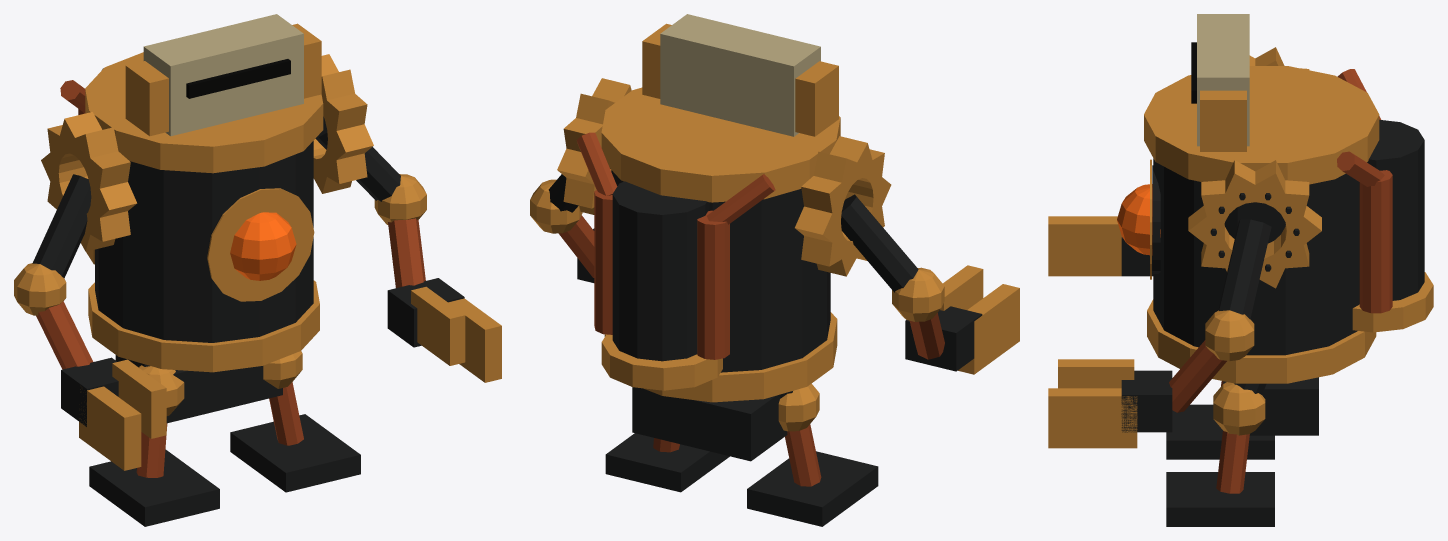
Rendered from ENEMY_ScrapperAutomaton_Blockout_LOD0.obj.
The picture shows the model from 3 angles, left to right: view 1: azimuth 30°, elevation 25°; view 2: azimuth 150°, elevation 25°; view 3: azimuth 270°, elevation 25°; orthographic projection. The views are drawn at different scales.
Visible parts, largest first — view 1: boiler_torso, head_mask_plate, upper_boiler_band, left_cog_shoulder, lower_boiler_band, right_leg_broad_foot, chest_core_brass_lip, left_leg_broad_foot, right_cog_shoulder, pelvis_block, left_outer_claw, chest_core_amber_glass (+19 smaller); view 2: upper_boiler_band, boiler_torso, backpack_pressure_tank, head_mask_plate, left_cog_shoulder, pelvis_block, left_leg_broad_foot, lower_boiler_band, backpack_left_pipe, right_leg_broad_foot, right_cog_shoulder, backpack_mount_collar (+15 smaller); view 3: boiler_torso, upper_boiler_band, right_cog_shoulder, backpack_pressure_tank, lower_boiler_band, right_leg_broad_foot, right_outer_claw, backpack_right_pipe, head_mask_plate, left_inner_claw, left_leg_broad_foot, right_upper_claw_arm (+14 smaller).
Part boxes in pixels (x1,y1,x2,y2): boiler_torso: (95,141,313,342); head_mask_plate: (143,14,303,136); upper_boiler_band: (85,52,323,173); left_cog_shoulder: (41,112,137,251); lower_boiler_band: (88,280,319,372); right_leg_broad_foot: (230,414,360,492); chest_core_brass_lip: (207,188,314,301); left_leg_broad_foot: (89,449,219,526); right_cog_shoulder: (313,54,373,193); pelvis_block: (115,355,282,423); left_outer_claw: (79,386,141,470); chest_core_amber_glass: (230,212,296,280); upper_boiler_band: (601,87,840,202); boiler_torso: (611,170,830,372); backpack_pressure_tank: (612,181,709,361); head_mask_plate: (660,14,820,136); left_cog_shoulder: (795,136,891,276); pelvis_block: (632,387,787,461); left_leg_broad_foot: (747,451,878,526); lower_boiler_band: (604,312,837,402); backpack_left_pipe: (697,210,729,359); right_leg_broad_foot: (605,433,729,492); right_cog_shoulder: (557,78,631,214); backpack_mount_collar: (601,334,722,390); boiler_torso: (1153,158,1359,355); upper_boiler_band: (1144,66,1379,184); right_cog_shoulder: (1188,160,1321,288); backpack_pressure_tank: (1367,119,1424,300); lower_boiler_band: (1147,299,1376,383); right_leg_broad_foot: (1166,472,1274,526); right_outer_claw: (1048,388,1137,448); backpack_right_pipe: (1359,170,1392,313); head_mask_plate: (1197,14,1249,146); left_inner_claw: (1058,217,1121,270); left_leg_broad_foot: (1166,404,1274,459); right_upper_claw_arm: (1218,219,1271,319).
Bounding box in the file's own units: 1.44 × 1.49 × 1.21.
